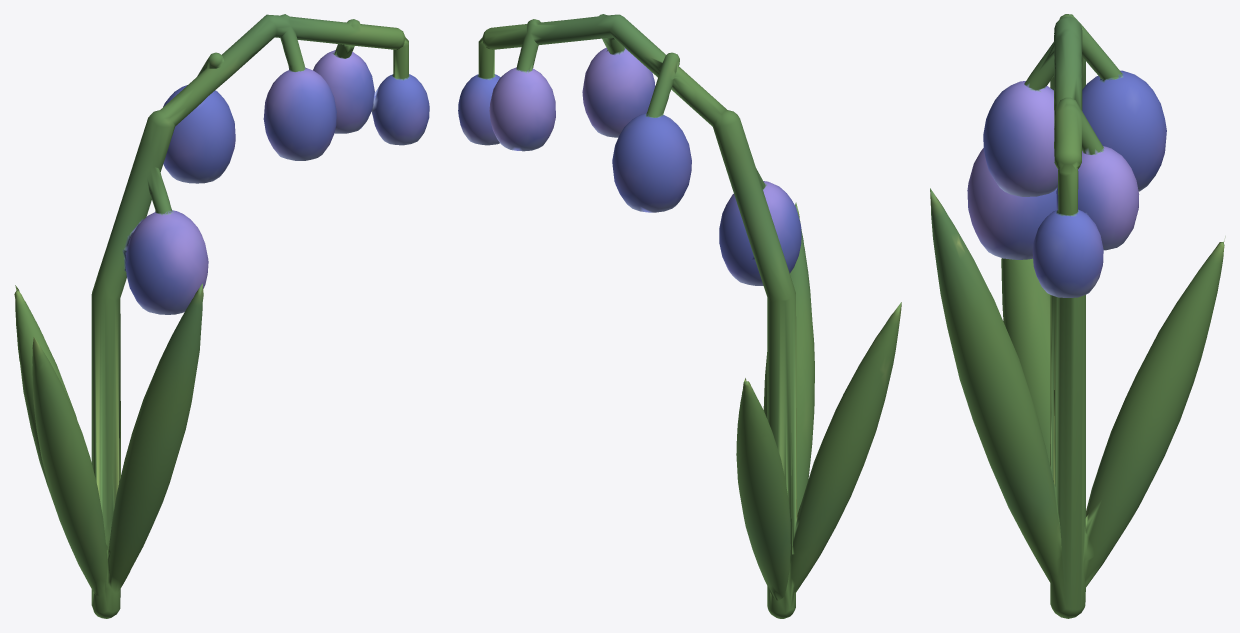
File: flower3.glb
The picture shows the model from 3 angles, left to right: view 1: azimuth 30°, elevation 25°; view 2: azimuth 150°, elevation 25°; view 3: azimuth 270°, elevation 25°; orthographic projection. The views are drawn at different scales.
Parts seen in each view (by area): view 1: body; view 2: body; view 3: body.
Part boxes in pixels (x1,y1,x2,y2): body: (14,14,429,618); body: (458,14,901,618); body: (930,14,1225,618).
Bounding box in the file's own units: 0.3032 × 0.3911 × 0.15.
